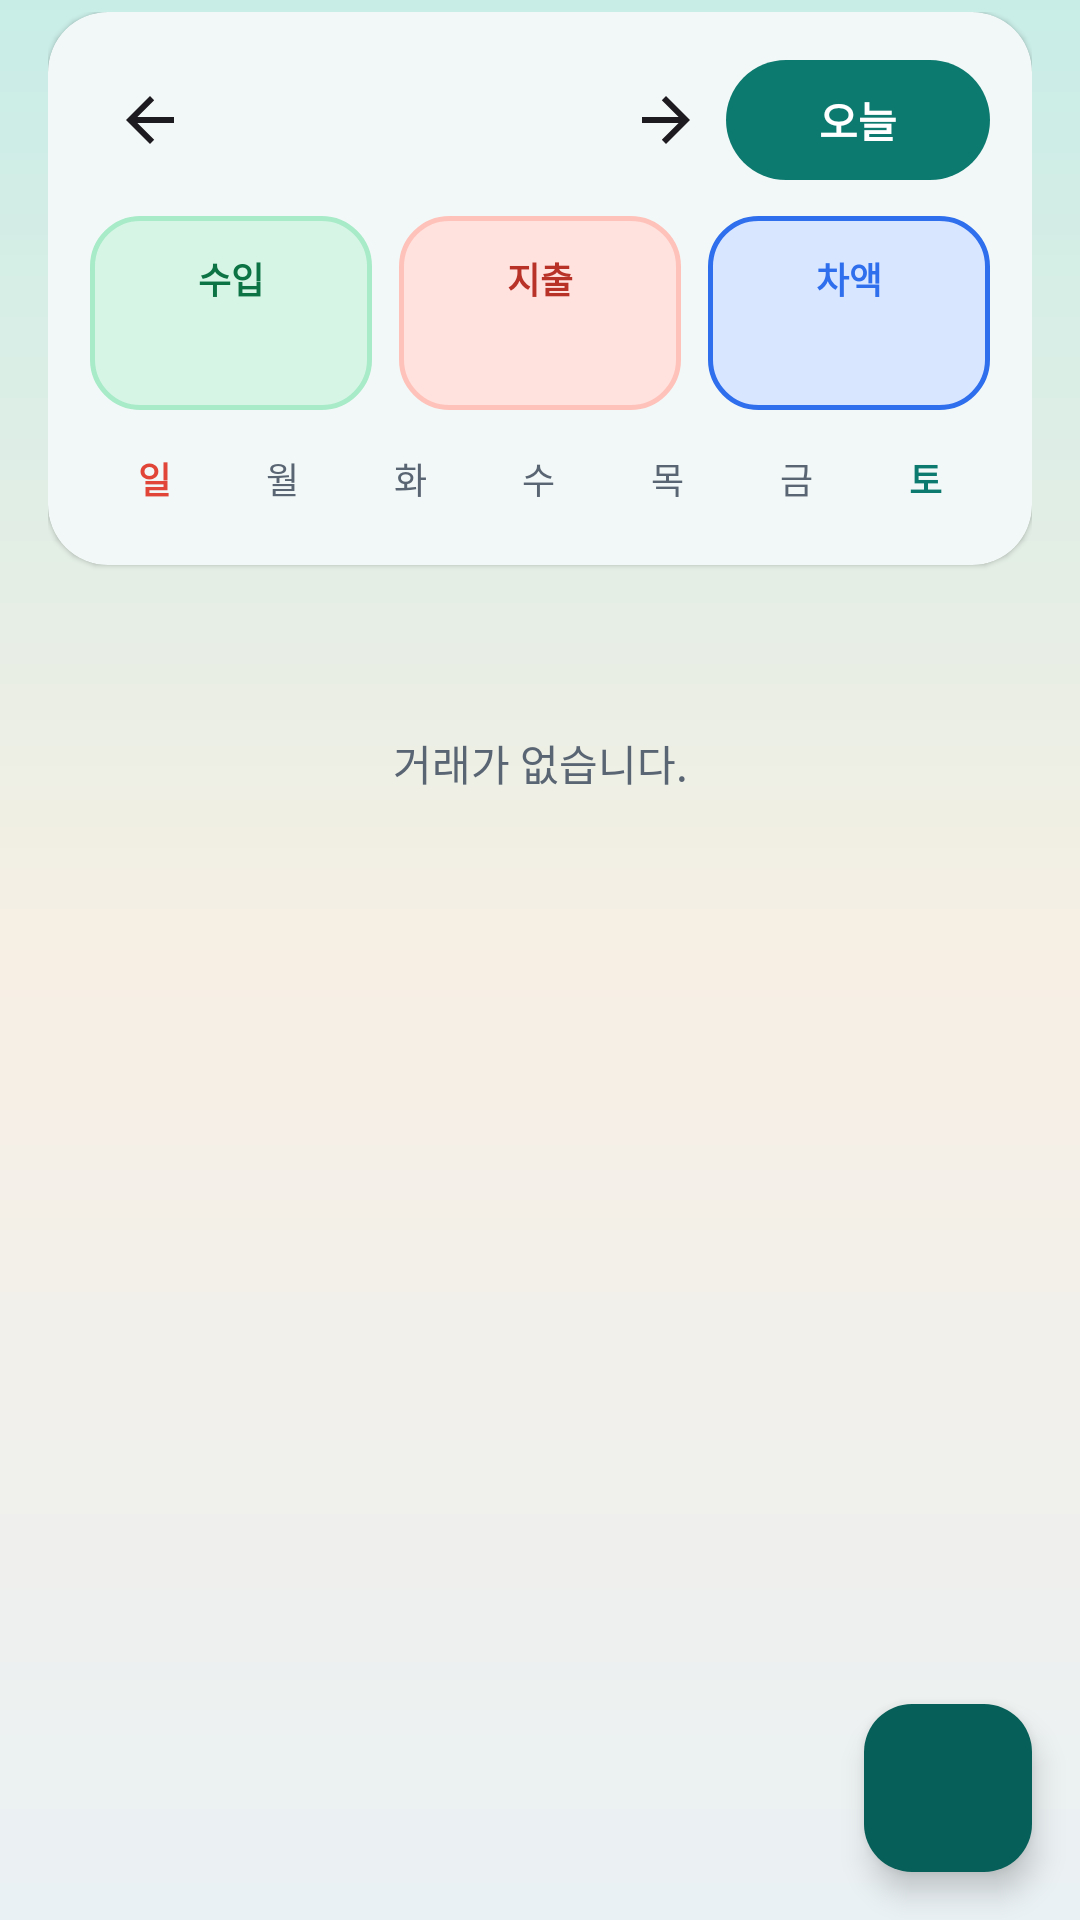

Icon click points for this 1080px x 1920px phone screenshot, format (x,y):
이전 달: (150,120)
